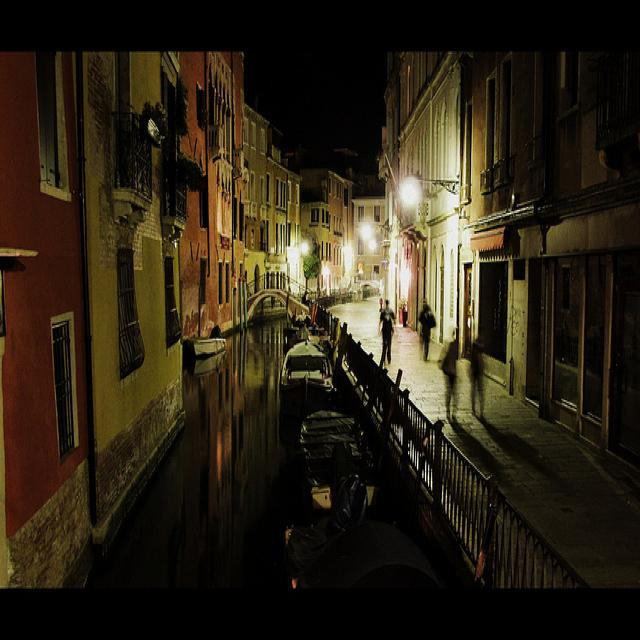Boat: (277, 498, 442, 620), (286, 400, 386, 538), (278, 330, 338, 441)
People: (467, 331, 492, 420), (440, 329, 462, 422), (378, 288, 401, 373), (415, 297, 436, 354)
